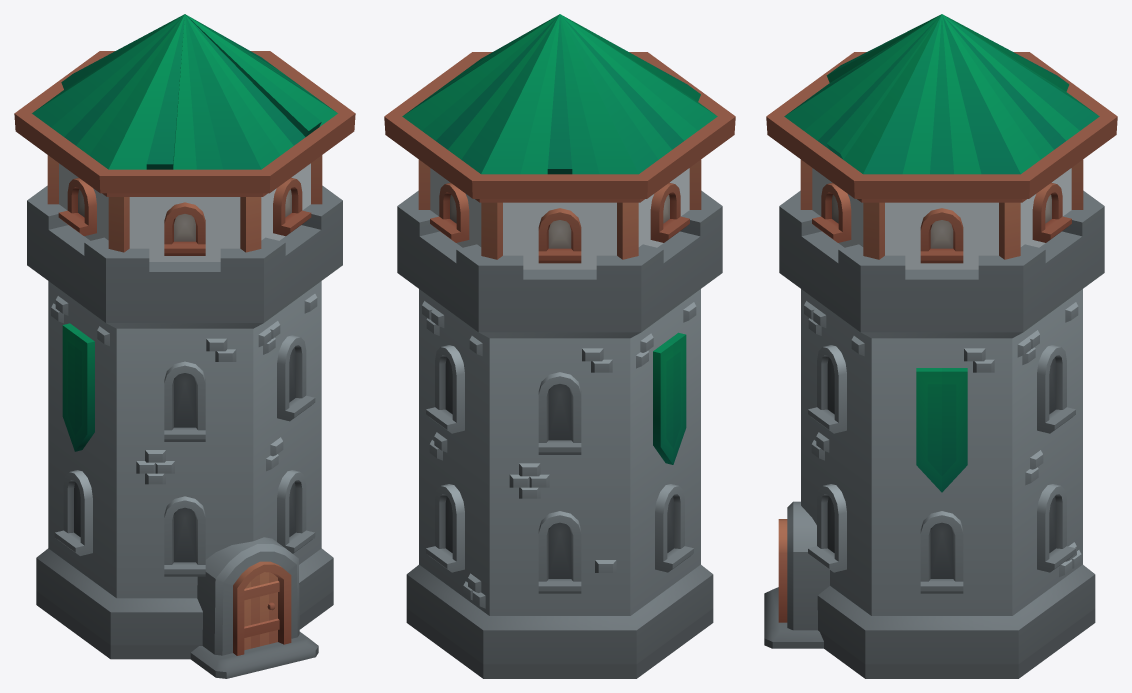
The model's file is building_tower_A_green.glb.
3 views of the same model, side by side, from view 1: azimuth 30°, elevation 25°; view 2: azimuth 150°, elevation 25°; view 3: azimuth 270°, elevation 25° (orthographic). The views are drawn at different scales.
Visible parts, largest first — view 1: building_tower_A_green, building_tower_A_top_green; view 2: building_tower_A_green, building_tower_A_top_green; view 3: building_tower_A_green, building_tower_A_top_green.
Boxes of the visible parts, <box> form: building_tower_A_green: <box>27,185,342,678</box>; building_tower_A_top_green: <box>14,14,355,261</box>; building_tower_A_green: <box>397,190,722,678</box>; building_tower_A_top_green: <box>384,14,735,269</box>; building_tower_A_green: <box>764,190,1104,678</box>; building_tower_A_top_green: <box>766,14,1117,269</box>.
Size of the model in its own units: 0.9933 by 2.19 by 1.15.
Materials: 1 (1 with a texture image).
